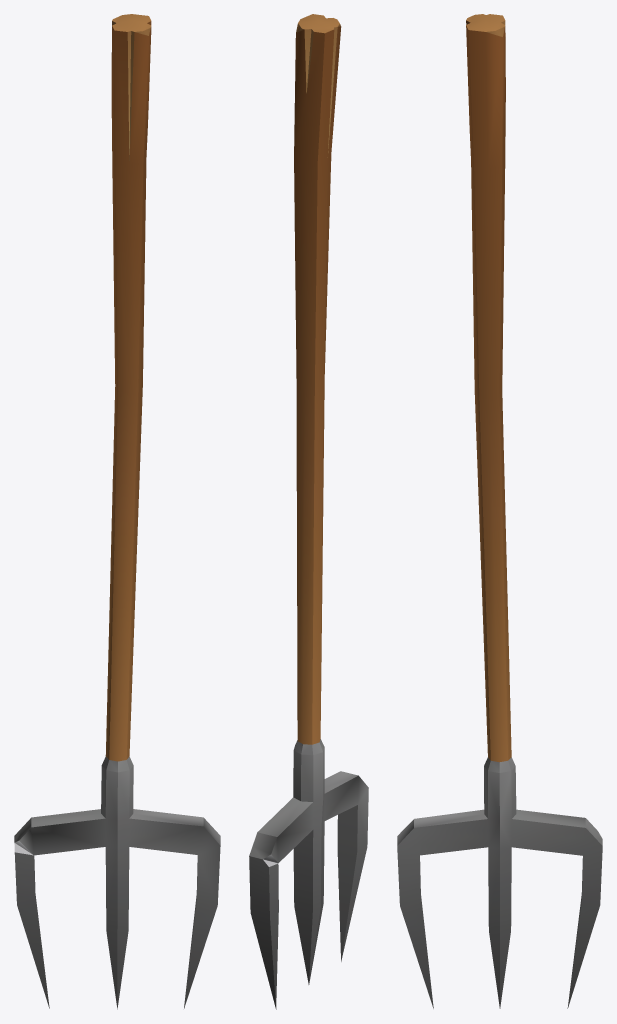
File: Pitchfork_C.glb
3 views of the same model, side by side, from view 1: azimuth 90°, elevation 25°; view 2: azimuth 150°, elevation 25°; view 3: azimuth 270°, elevation 25° (orthographic). The views are drawn at different scales.
Parts seen in each view (by area): view 1: Pitchfork_C; view 2: Pitchfork_C; view 3: Pitchfork_C.
Boxes of the visible parts, x1,y1,x2,y2 form: Pitchfork_C: [14, 14, 220, 1009]; Pitchfork_C: [249, 14, 368, 1009]; Pitchfork_C: [397, 14, 602, 1008].
Size of the model in its own units: 0.0673 by 1.65 by 0.3102.
Materials: 2 (2 with a texture image).
